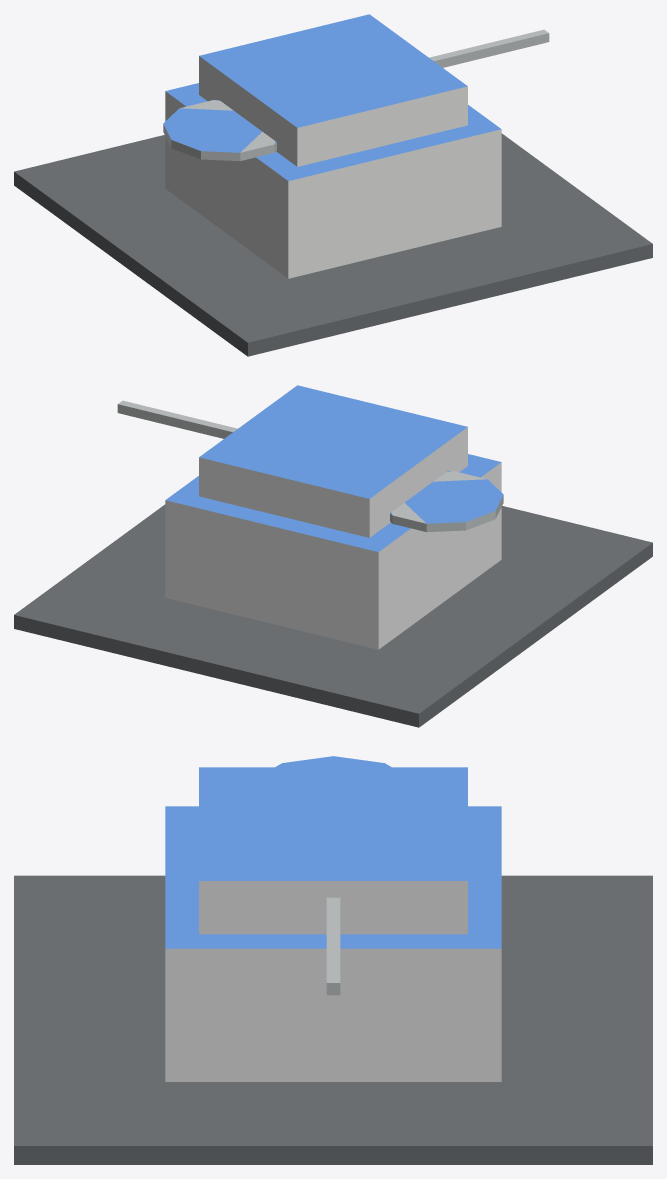
The model's file is network_unmanned_artillery_no_uplink.glb.
The picture shows the model from 3 angles, top to bottom: view 1: azimuth 30°, elevation 25°; view 2: azimuth 150°, elevation 25°; view 3: azimuth 270°, elevation 25°; orthographic projection. The views are drawn at different scales.
Visible parts, largest first — view 1: hull, turret, dish, barrel; view 2: hull, turret, dish, barrel; view 3: hull, turret, barrel, dish.
Boxes of the visible parts, x1,y1,x2,y2 form: hull: (14,83,652,356); turret: (199,14,467,166); dish: (163,100,276,161); barrel: (429,29,549,67); hull: (14,454,652,727); turret: (199,385,467,537); dish: (390,471,503,532); barrel: (117,400,237,438); hull: (14,806,652,1164); turret: (199,767,467,934); barrel: (326,897,340,995); dish: (275,756,391,767).
Size of the model in its own units: 7.8 by 2.7 by 7.6.
